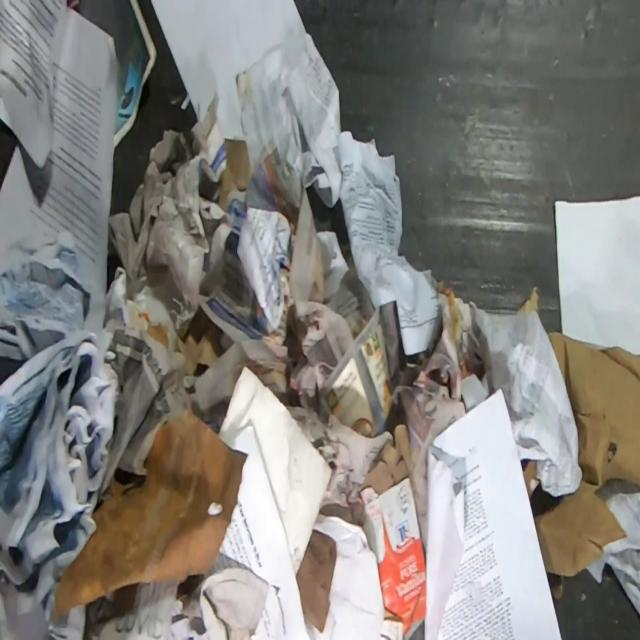cardboard: (517, 286, 640, 609), (355, 476, 426, 639), (215, 135, 250, 213)
rigid_plastic: (315, 305, 394, 438)
